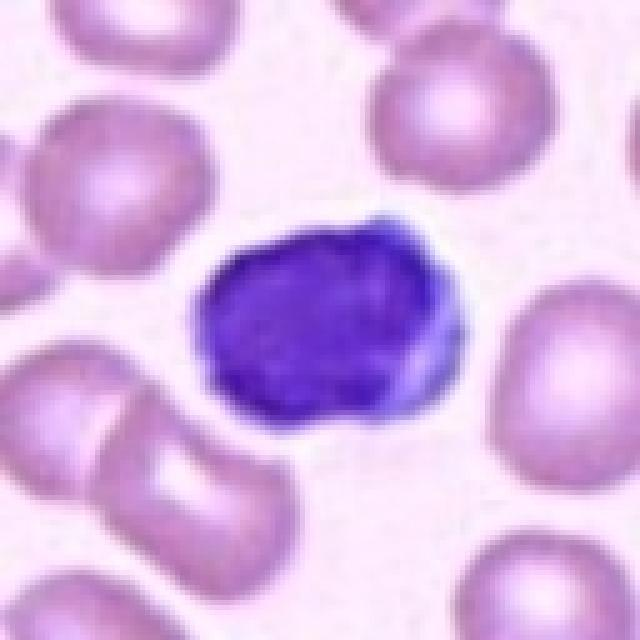lympho: (186, 206, 469, 434)
